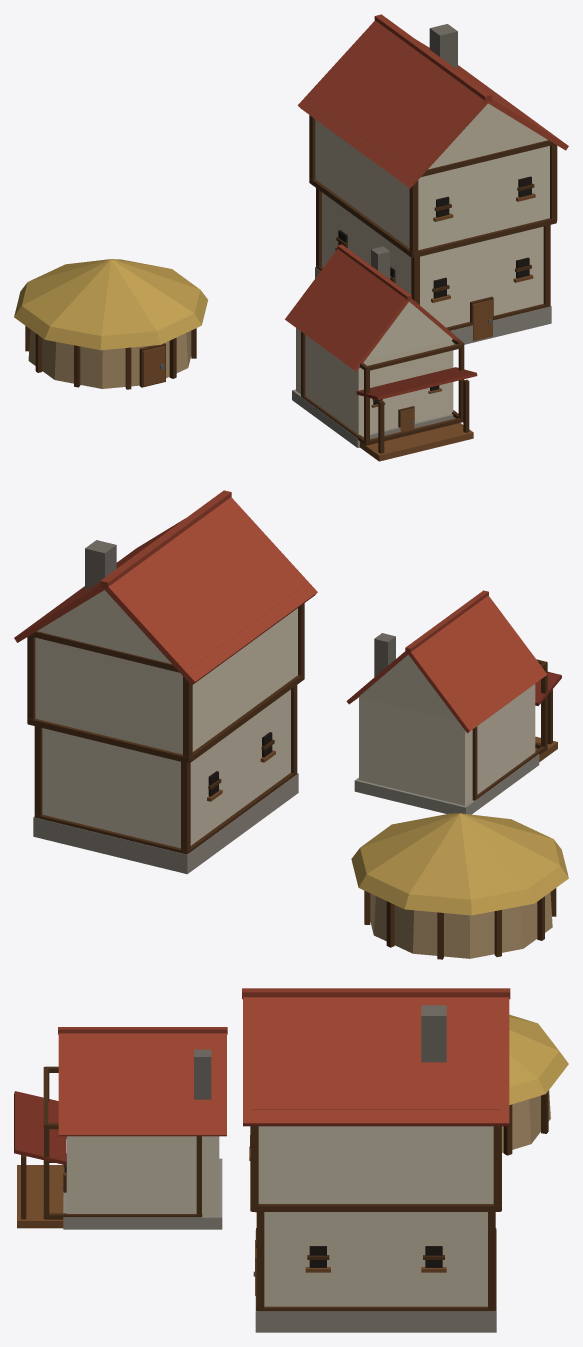
The model's file is human_compound.glb.
The picture shows the model from 3 angles, top to bottom: view 1: azimuth 30°, elevation 25°; view 2: azimuth 150°, elevation 25°; view 3: azimuth 270°, elevation 25°; orthographic projection. The views are drawn at different scales.
Parts seen in each view (by area): view 1: human_compound; view 2: human_compound; view 3: human_compound.
Boxes of the visible parts, left/top/right/bottom form: human_compound: left=14, top=14, right=568, bottom=461; human_compound: left=14, top=490, right=568, bottom=959; human_compound: left=14, top=988, right=568, bottom=1332.
Bounding box in the file's own units: 5.29 × 2.76 × 4.6.
